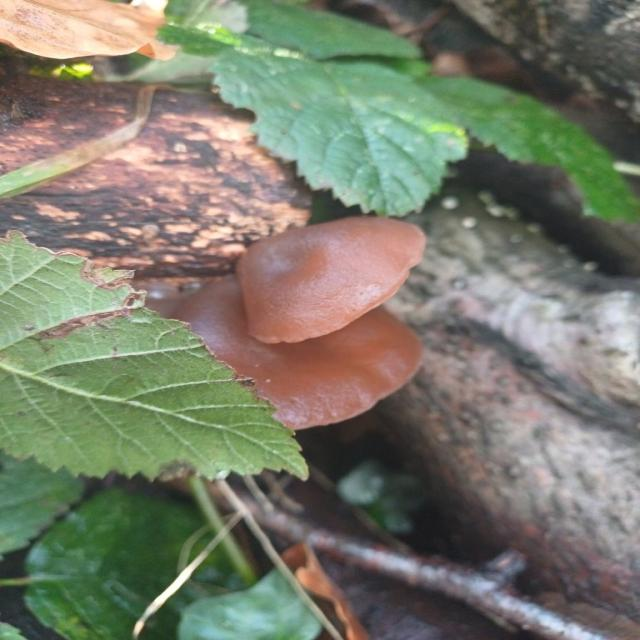Fase Muda: (132, 281, 432, 434), (238, 216, 430, 347)
